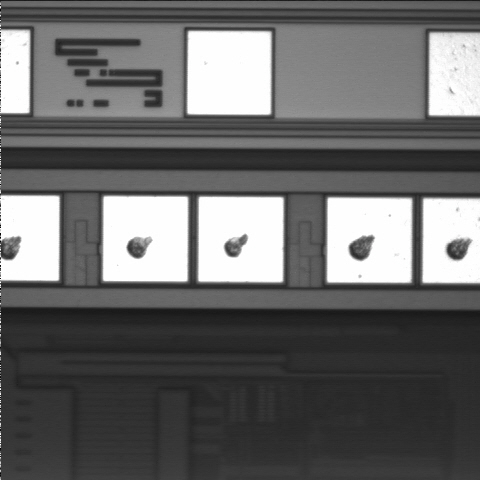pad: (103, 196, 188, 281), (198, 197, 283, 282), (327, 198, 412, 283), (187, 31, 271, 115)
